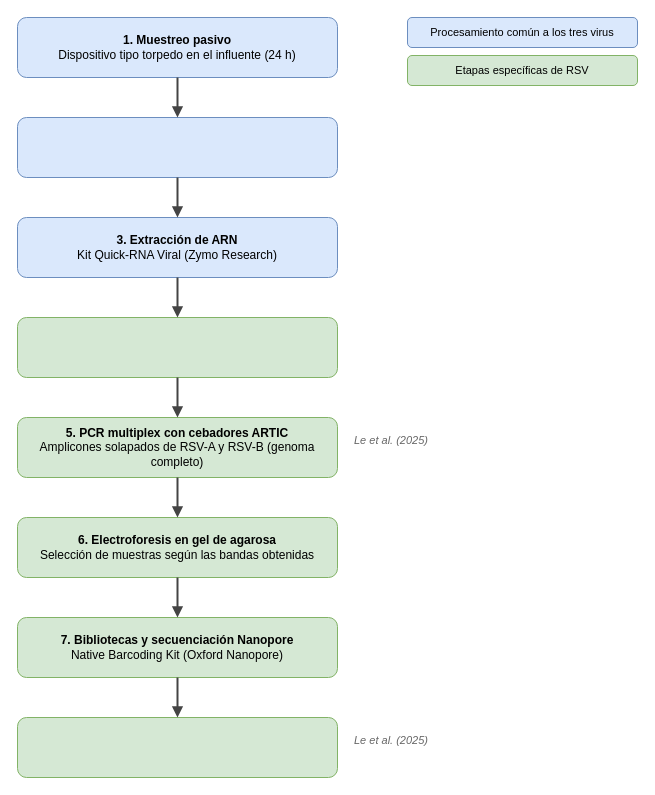
The diagram is 655 pixels wide and 795 high, and some of its shapes have lost their labels. Each missing label, with the box of its shape:
2. Preconcentración viral Precipitación con polietilenglicol (PEG): (16, 116, 338, 178)
4. Síntesis de ADNc Transcripción reversa del ARN viral: (16, 316, 338, 378)
8. Análisis bioinformático EPI2ME: subgrupo (RSV-A / RSV-B): (16, 716, 338, 778)
